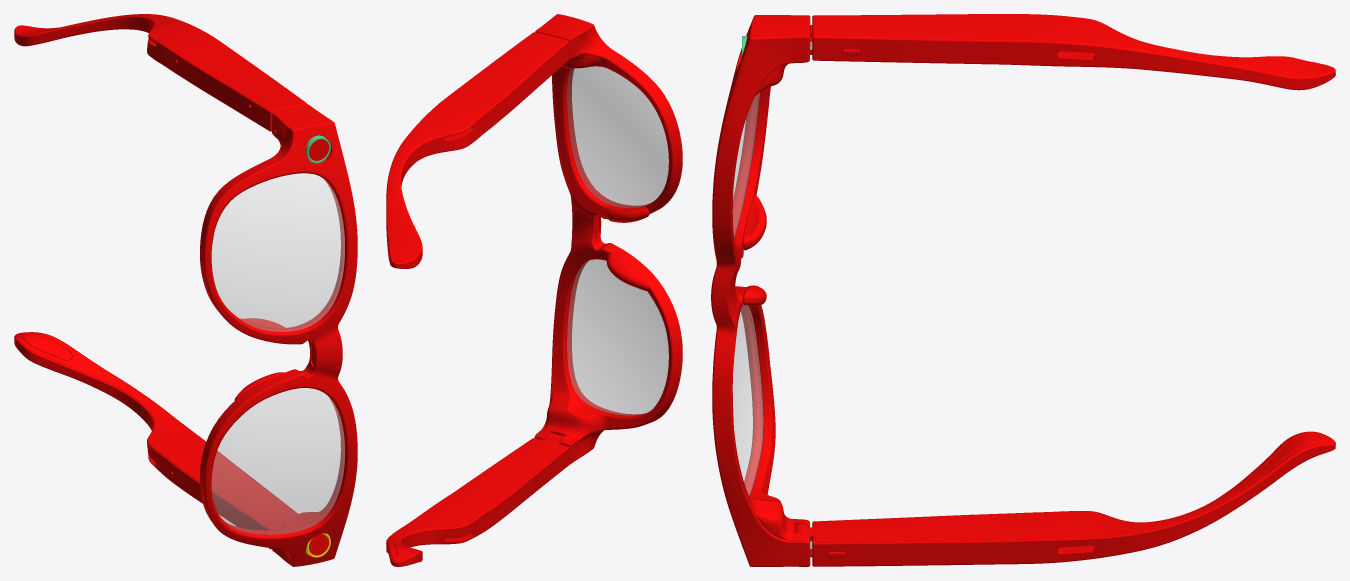
The model's file is glasses.glb.
3 renders of one model, left to right at view 1: azimuth 30°, elevation 25°; view 2: azimuth 150°, elevation 25°; view 3: azimuth 270°, elevation 25°, orthographic. The views are drawn at different scales.
Parts seen in each view (by area): view 1: K900-glb-LFG; view 2: K900-glb-LFG; view 3: K900-glb-LFG.
Part boxes in pixels (x1,y1,x2,y2): K900-glb-LFG: [14, 14, 357, 566]; K900-glb-LFG: [386, 14, 682, 566]; K900-glb-LFG: [711, 14, 1335, 566].
Size of the model in its own units: 0.0513 by 0.1537 by 0.1634.
